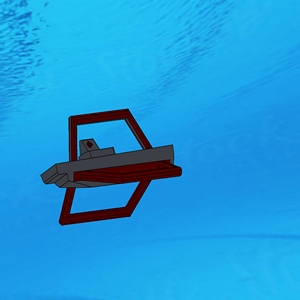submarine: (42, 107, 182, 225)
